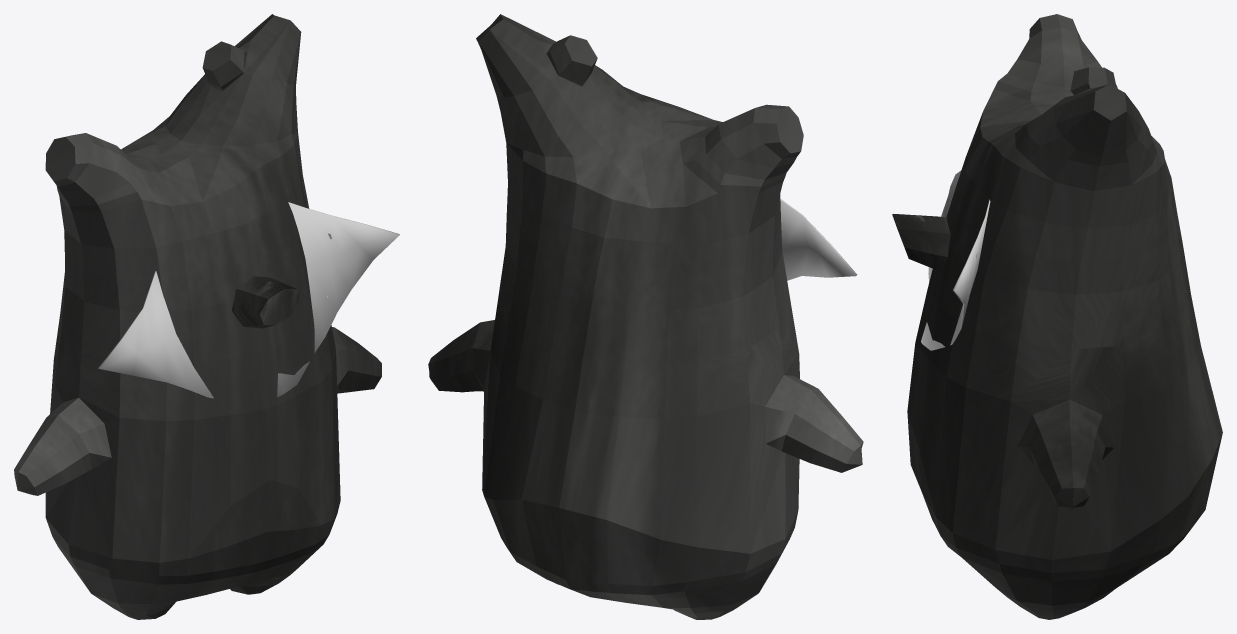
Rendered from frame_0067.obj.
The picture shows the model from 3 angles, left to right: view 1: azimuth 30°, elevation 25°; view 2: azimuth 150°, elevation 25°; view 3: azimuth 270°, elevation 25°; orthographic projection. The views are drawn at different scales.
Parts seen in each view (by area): view 1: korok, leaf, nose; view 2: korok, leaf; view 3: korok, nose, leaf.
Boxes of the visible parts, <box> form: korok: <box>14,14,381,619</box>; leaf: <box>98,202,399,398</box>; nose: <box>231,276,299,328</box>; korok: <box>428,14,863,619</box>; leaf: <box>780,199,857,280</box>; korok: <box>907,14,1222,619</box>; nose: <box>892,214,950,270</box>; leaf: <box>921,170,990,350</box>.
Bounding box in the file's own units: 1.68 × 2.28 × 1.22.
